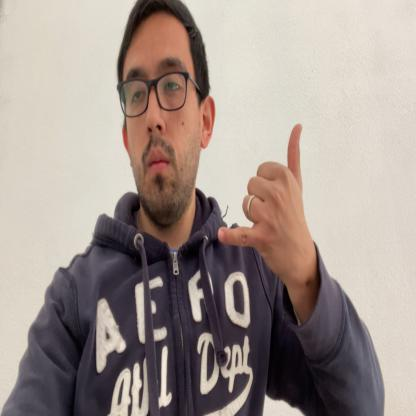Y: (218, 124, 306, 265)
